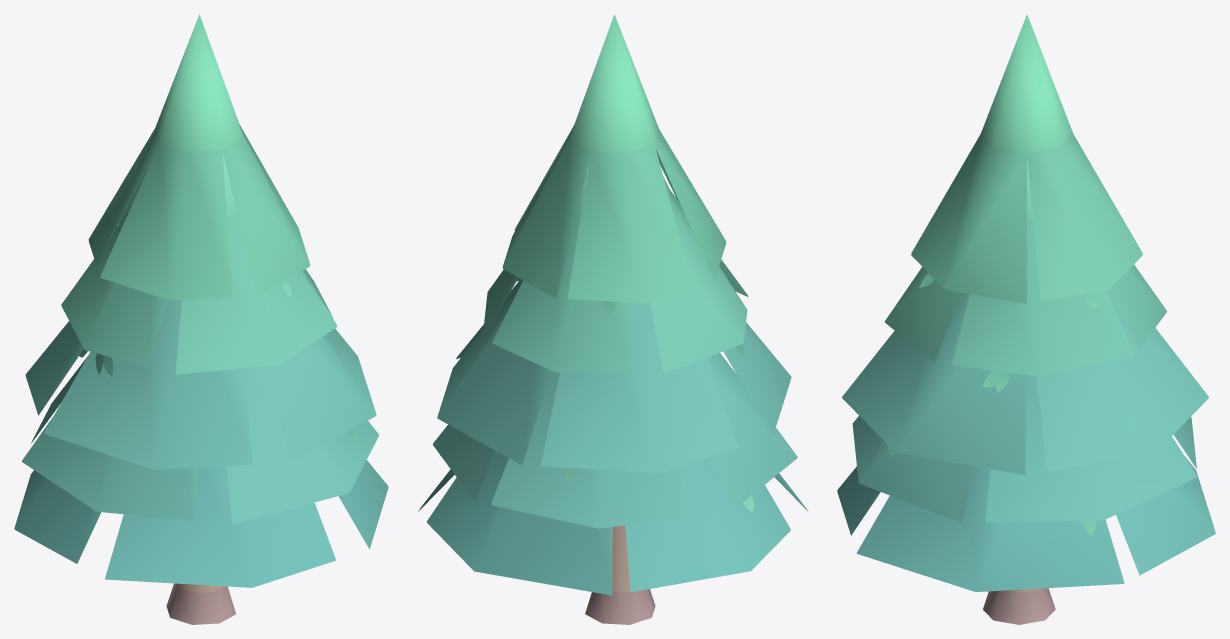
The model's file is pinetree_v2.glb.
3 renders of one model, left to right at view 1: azimuth 30°, elevation 25°; view 2: azimuth 150°, elevation 25°; view 3: azimuth 270°, elevation 25°, orthographic.
Visible parts, largest first — view 1: Pinetree_V2.001; view 2: Pinetree_V2.001; view 3: Pinetree_V2.001.
Boxes of the visible parts, x1,y1,x2,y2 form: Pinetree_V2.001: (14,14,388,624); Pinetree_V2.001: (418,14,807,624); Pinetree_V2.001: (837,14,1215,624).
Bounding box in the file's own units: 2.34 × 4.09 × 2.35.
